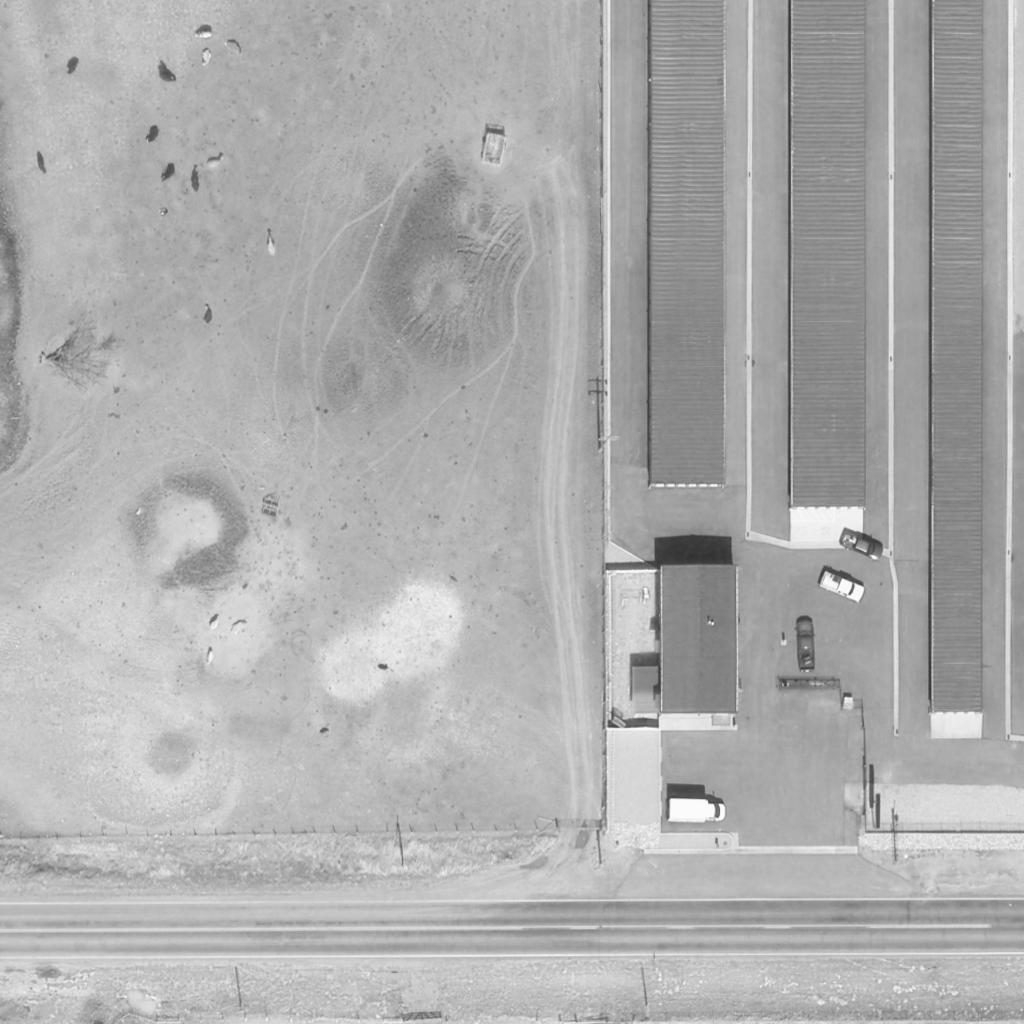vehicle: (668, 798, 726, 826), (817, 572, 865, 602), (839, 530, 885, 560), (796, 620, 816, 674)
